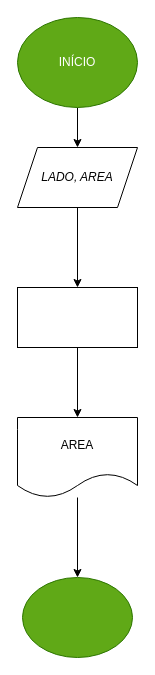
This 155x675 diagram has some shape labels left out. Each missing label, with the centre of its shape:
"AREA= LADO+AREA" goes at [77,317].
"FIM" goes at [77,617].
